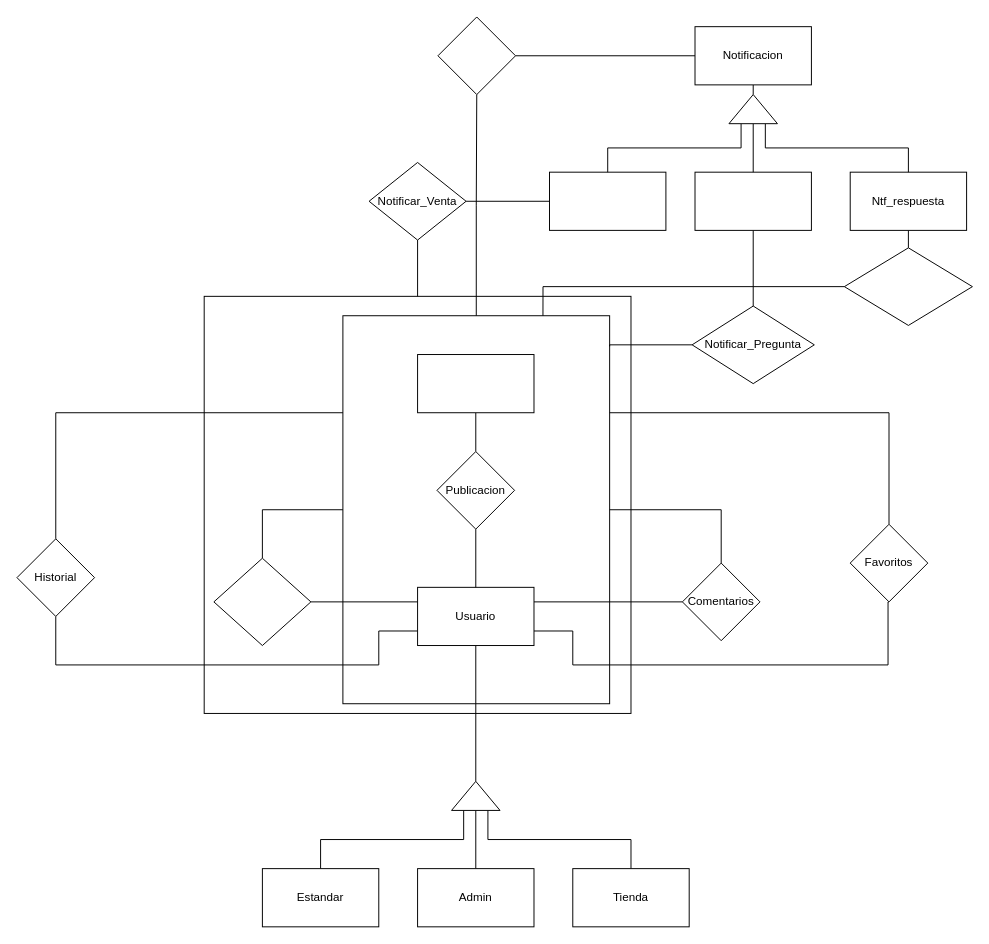
The diagram is 989 pixels wide and 944 high, and some of its shapes have lost their labels. Each missing label, with the centre of its shape:
"Compra_Venta" goes at point (262, 601).
"Notificar" goes at point (476, 55).
"Notificar_Respuesta" goes at point (907, 286).
"Ntf_pregunta" goes at point (752, 200).
"Ntf_venta" goes at point (607, 200).
"Producto" goes at point (475, 383).
